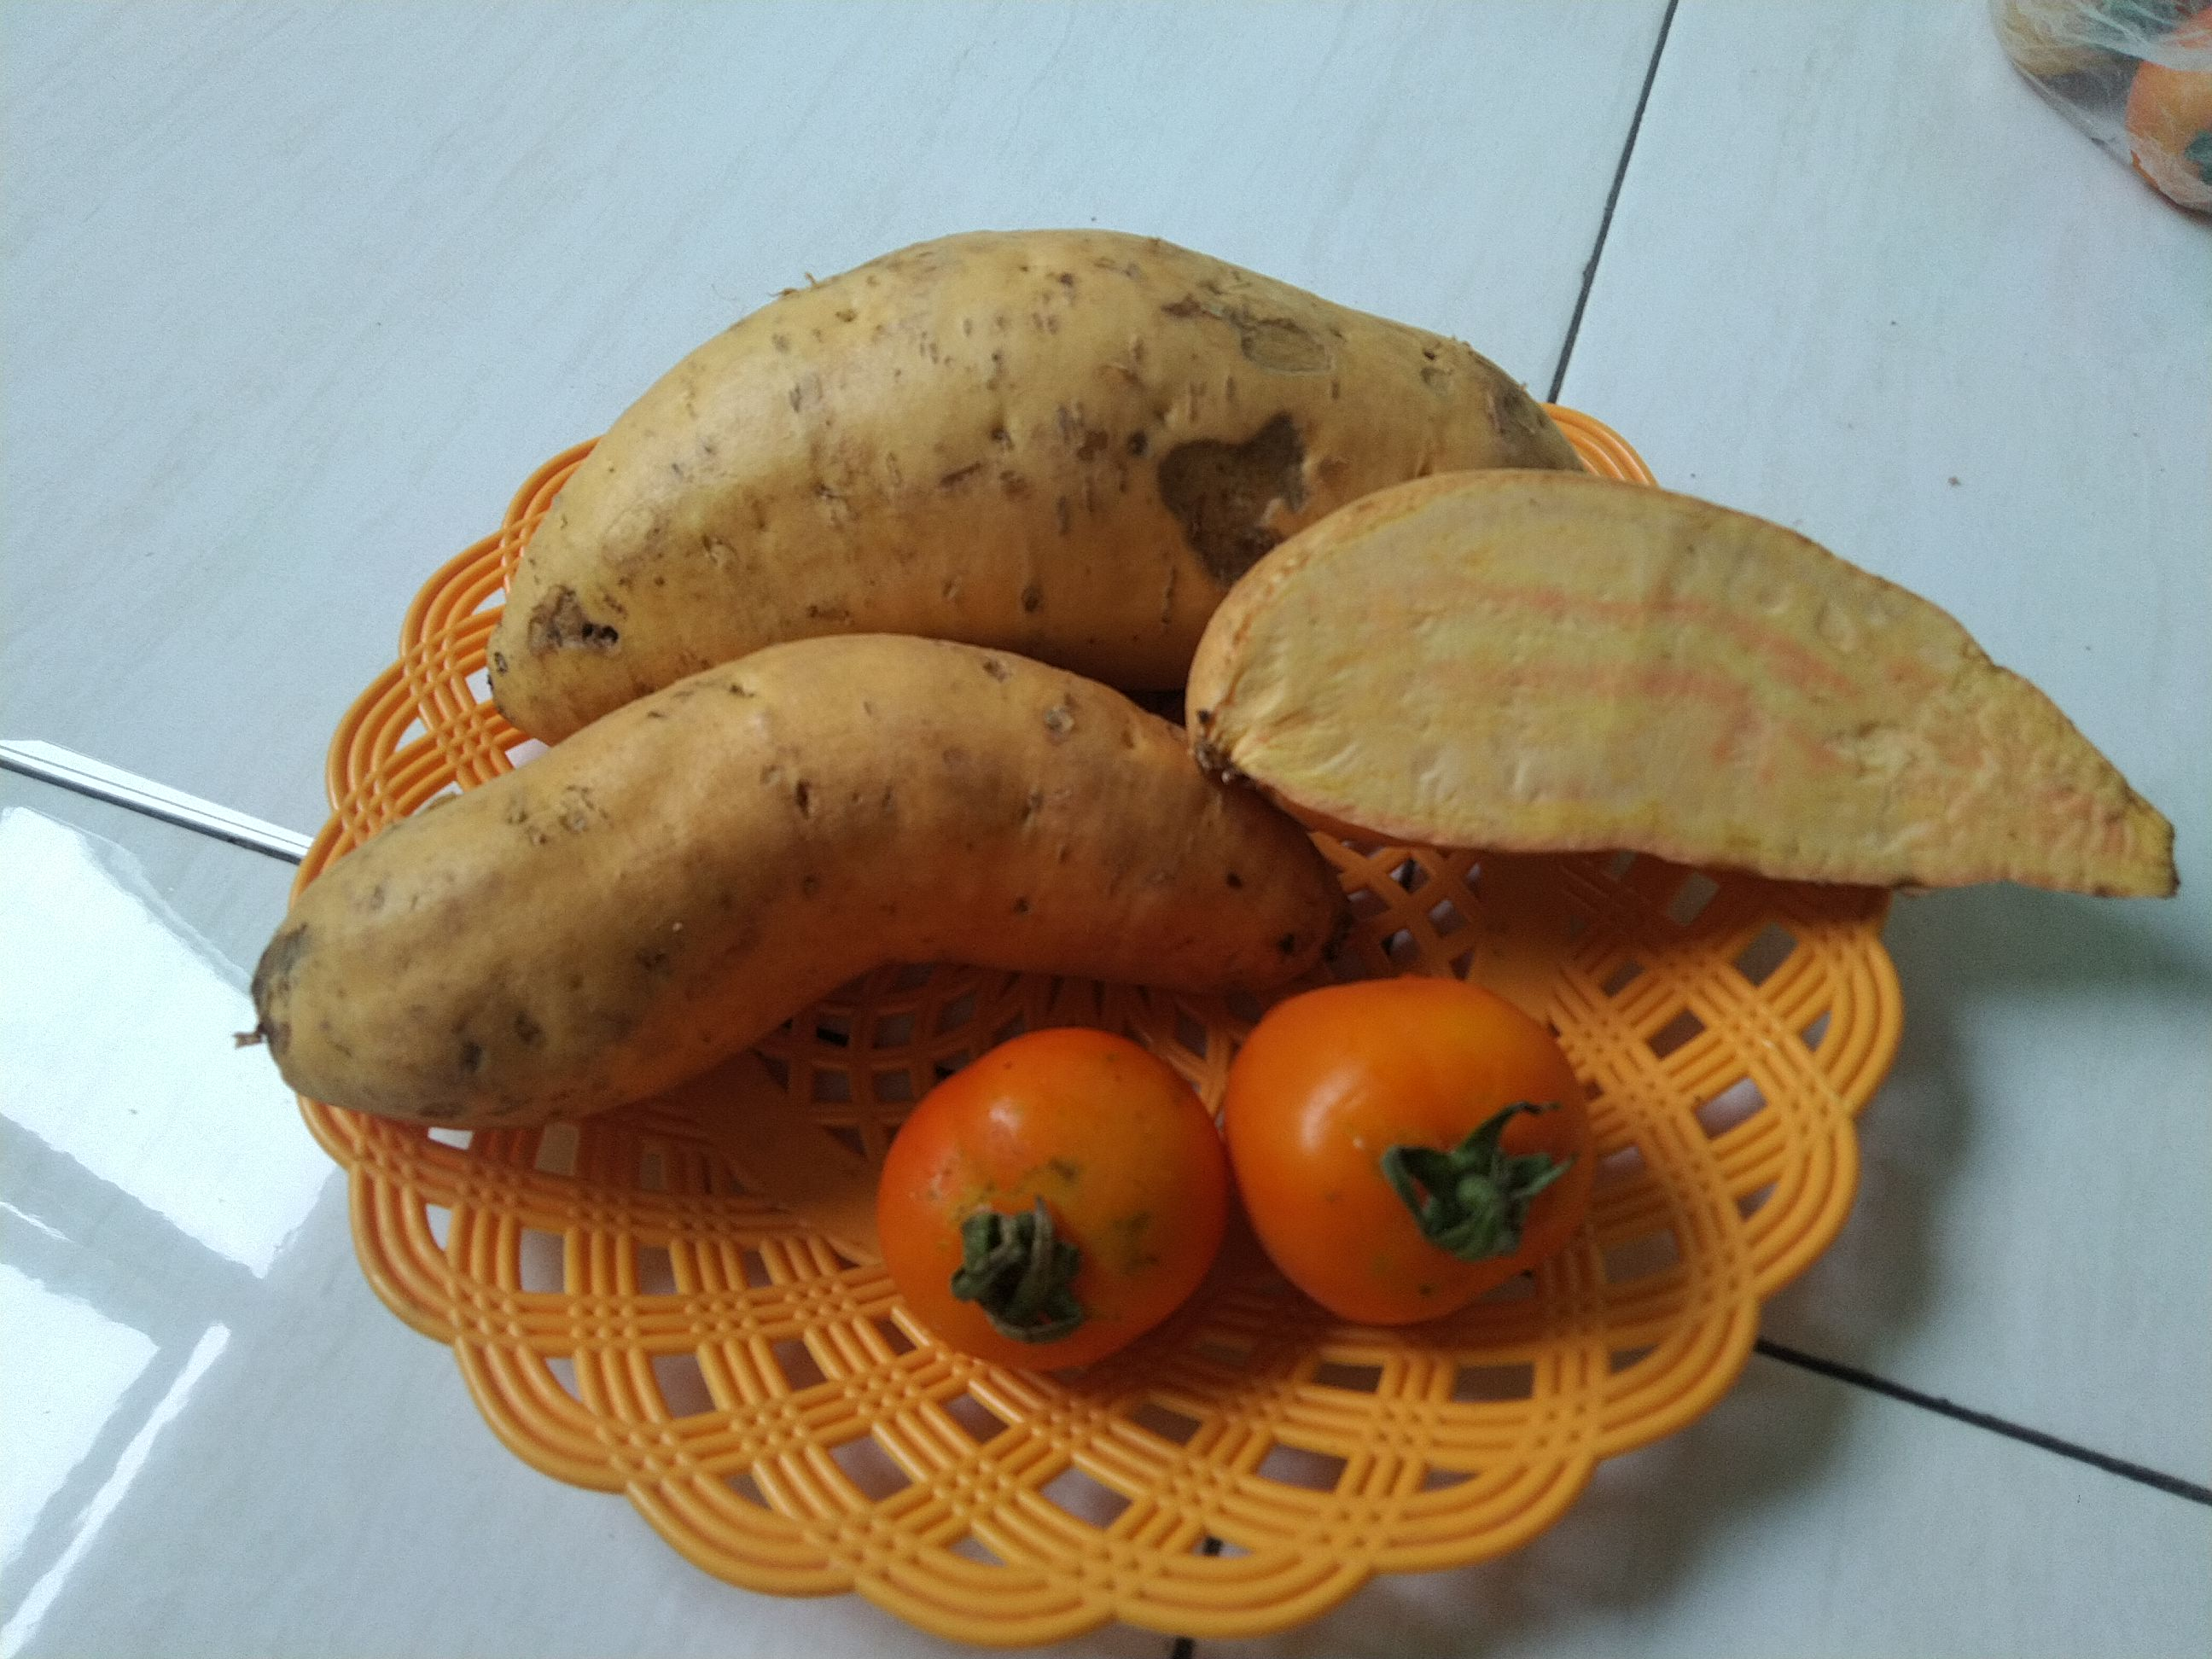ubi cilembu: (484, 221, 1630, 753), (237, 627, 1327, 1114), (1184, 476, 2186, 884)
